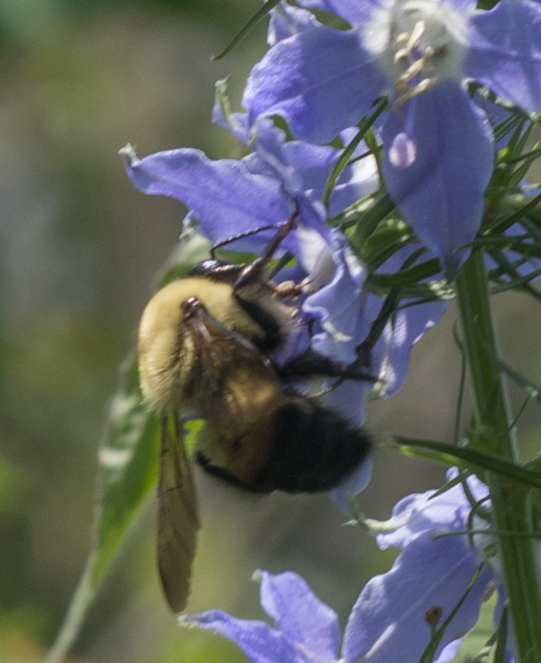bumblebee: (133, 204, 377, 616)
